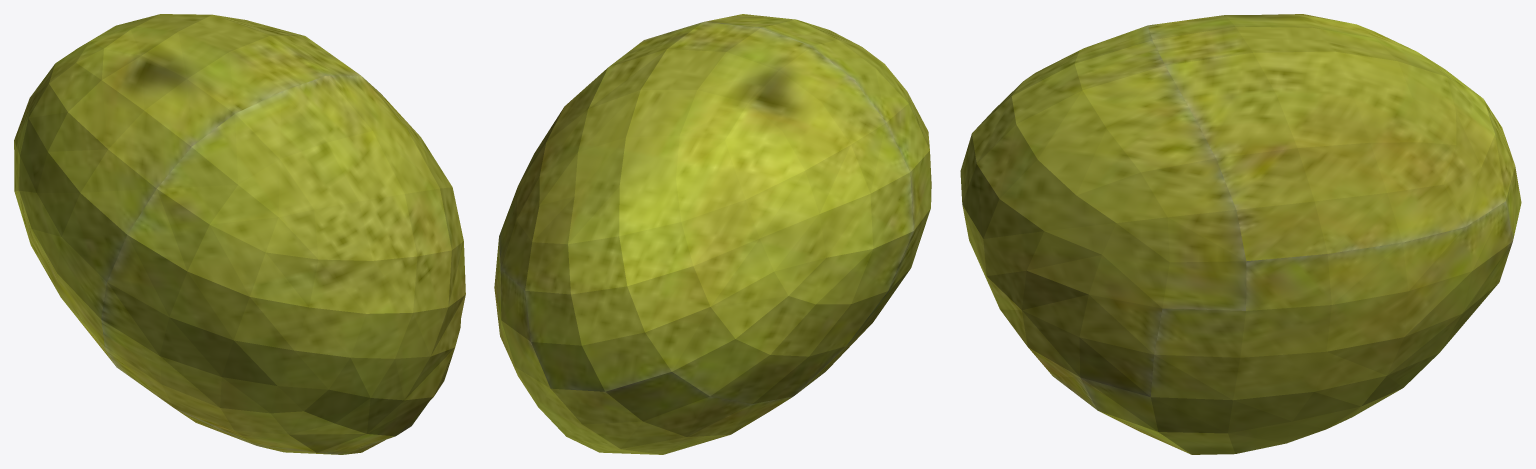
The model's file is pear_apple_1.glb.
The picture shows the model from 3 angles, left to right: view 1: azimuth 30°, elevation 25°; view 2: azimuth 150°, elevation 25°; view 3: azimuth 270°, elevation 25°; orthographic projection. The views are drawn at different scales.
Visible parts, largest first — view 1: pear_apple_1; view 2: pear_apple_1; view 3: pear_apple_1.
Boxes of the visible parts, left/top/right/bottom form: pear_apple_1: left=14, top=14, right=465, bottom=454; pear_apple_1: left=494, top=14, right=931, bottom=454; pear_apple_1: left=960, top=14, right=1521, bottom=454.
Size of the model in its own units: 0.0857 by 0.0955 by 0.1281.
1 material, 1 textured.
